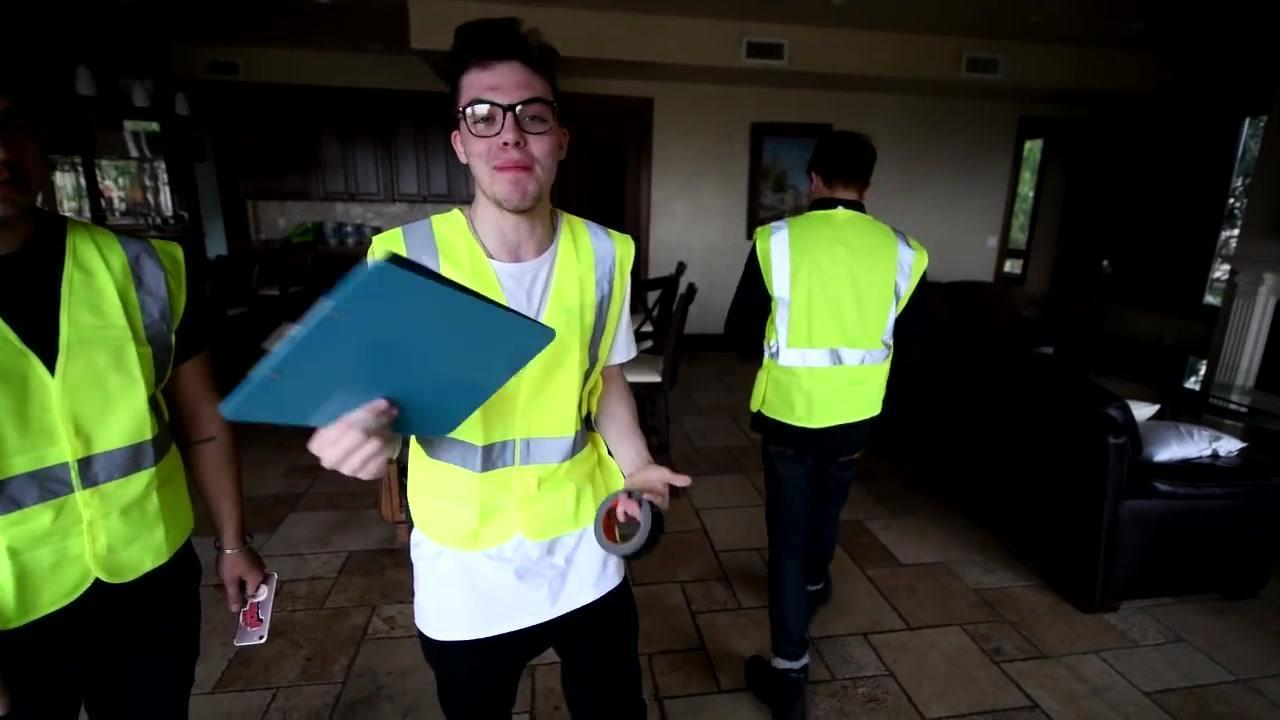vest: (360, 210, 638, 549), (3, 215, 194, 634), (743, 209, 931, 428)
